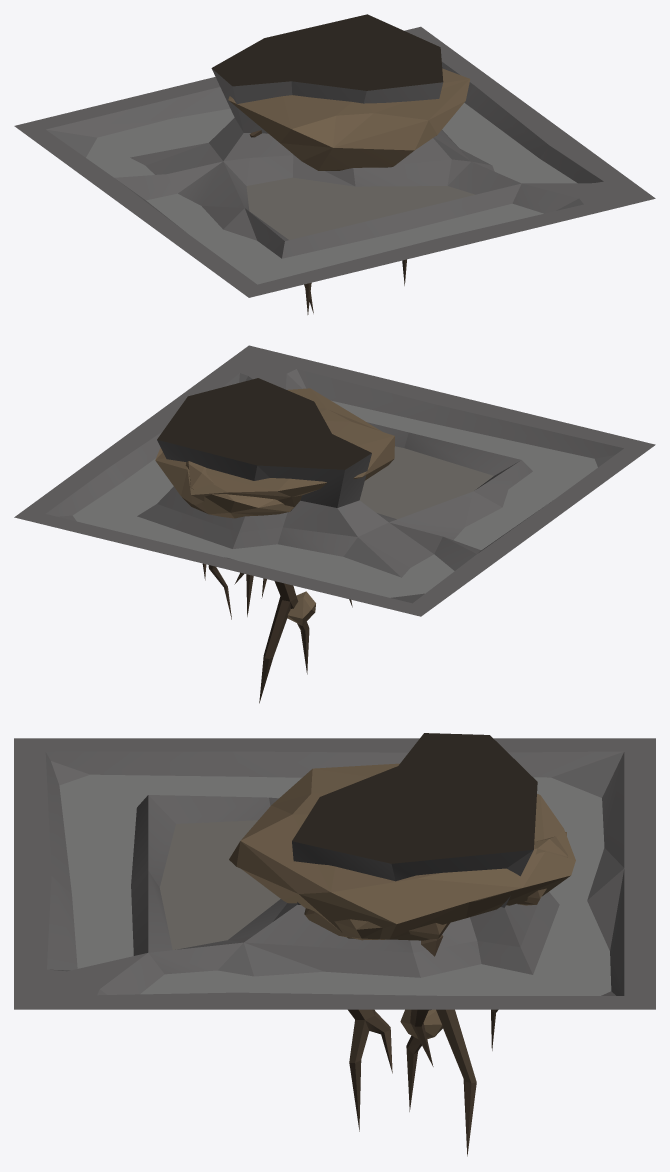
File: SM_Env_Ceiling_Stone_Flat_05.fbx
The picture shows the model from 3 angles, top to bottom: view 1: azimuth 30°, elevation 25°; view 2: azimuth 150°, elevation 25°; view 3: azimuth 270°, elevation 25°; orthographic projection. The views are drawn at different scales.
Parts seen in each view (by area): view 1: SM_Env_Ceiling_Stone_Flat_05; view 2: SM_Env_Ceiling_Stone_Flat_05; view 3: SM_Env_Ceiling_Stone_Flat_05.
Boxes of the visible parts, x1,y1,x2,y2 form: SM_Env_Ceiling_Stone_Flat_05: (14,14,655,314); SM_Env_Ceiling_Stone_Flat_05: (14,345,655,703); SM_Env_Ceiling_Stone_Flat_05: (14,733,655,1156).
Size of the model in its own units: 5 by 3.1 by 5.
